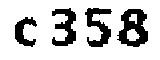3: (49, 9, 79, 50)
5: (84, 5, 113, 51)
8: (116, 6, 150, 50)
c: (12, 16, 39, 49)
